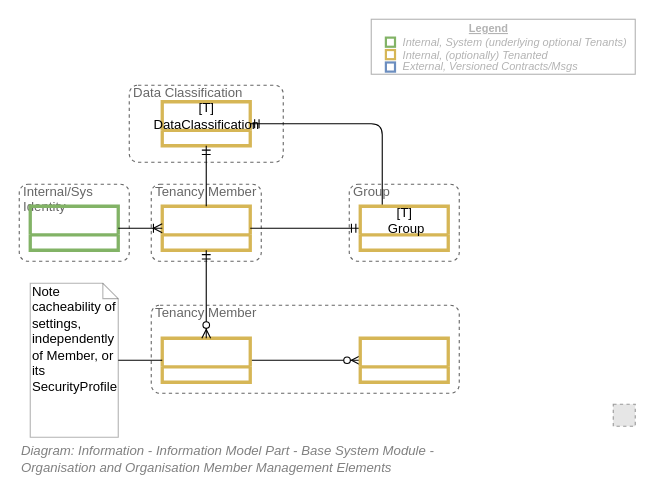
Some shapes in this 655 by 501 pixel diagram are drawn without their labels. Grey dashed boxes stand in for pictures. The shapes that lost their labels are listed below. From the top down, each one's centre as x and y in pixels, then its label:
[73,227]: [System] Principal
[205,227]: [ T ] Member
[205,359]: [ T ] Member.Profile
[403,359]: [ T ] Member.Profile Property
